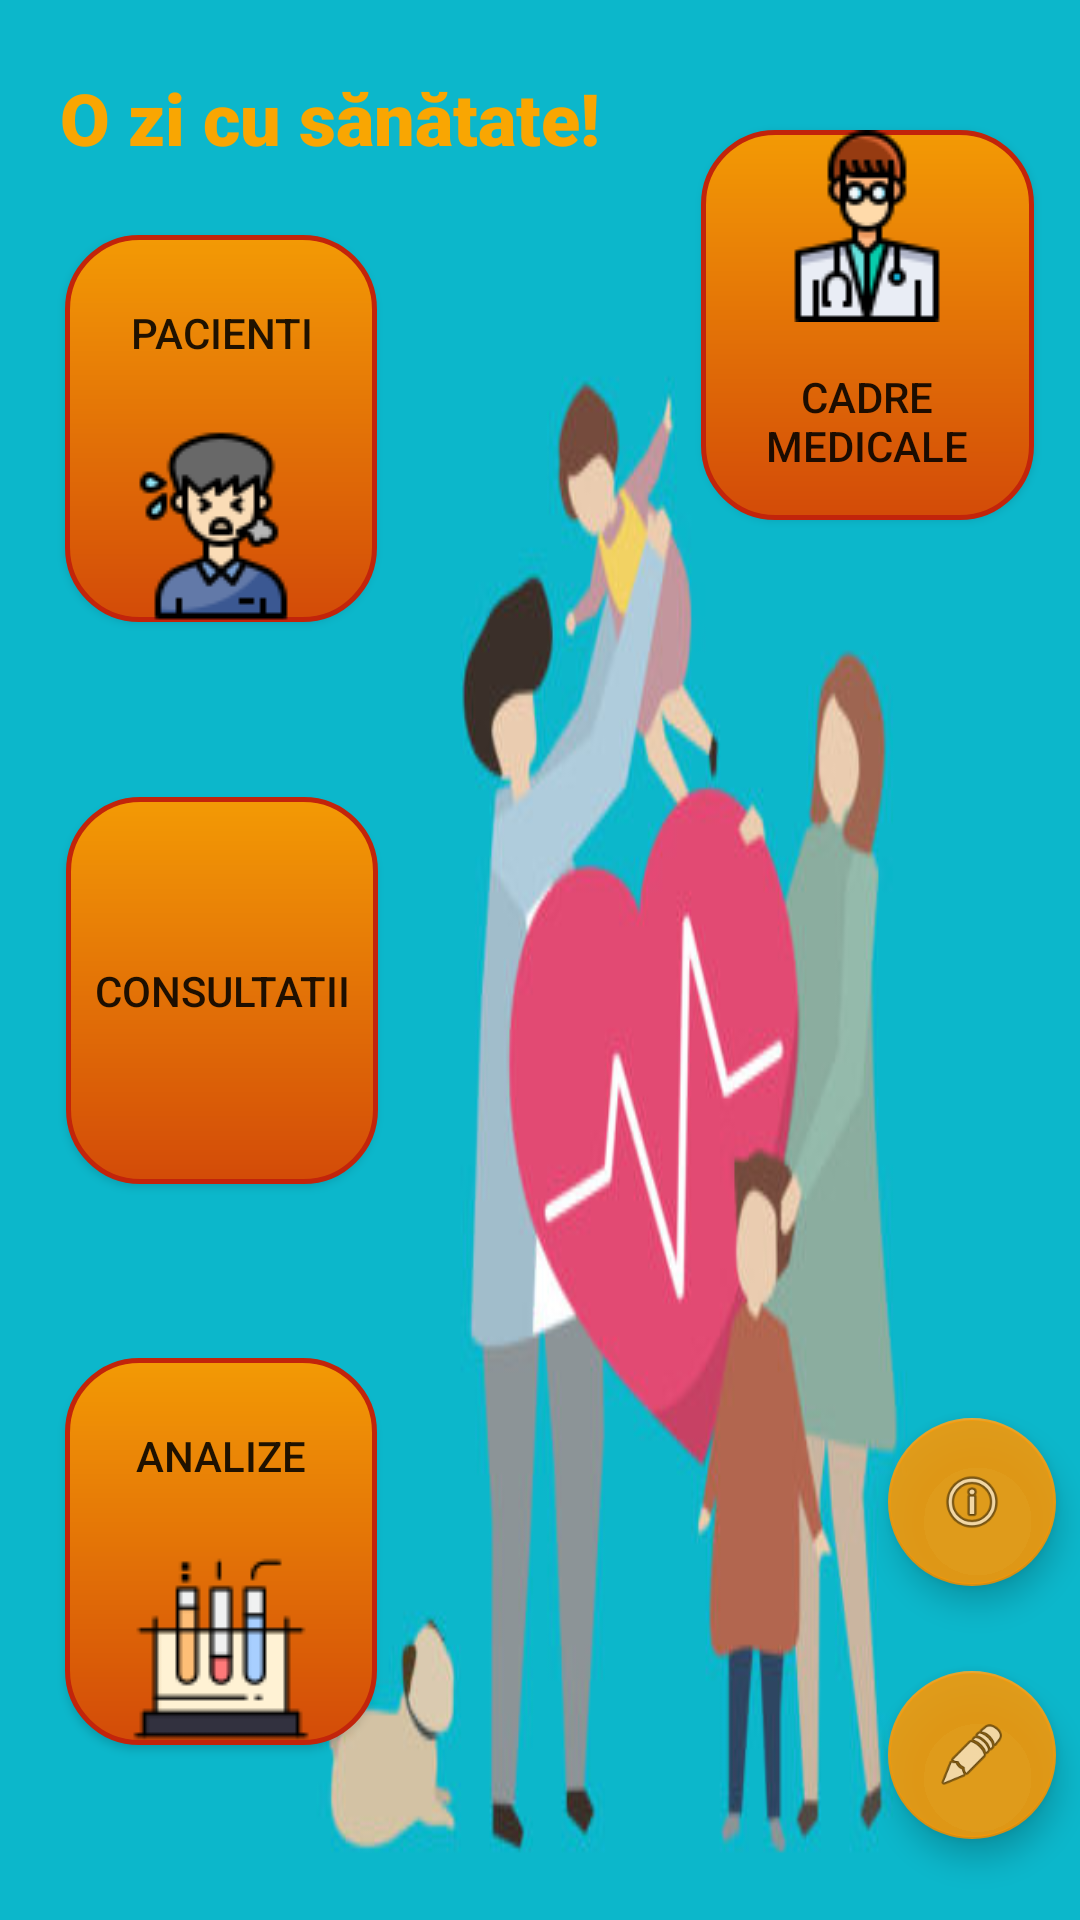

Icon click points for this 1080px x 1920px phone screenshot, format (x,y):
About us: (972,1502)
